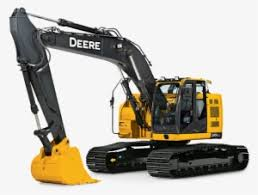excavator: (7, 8, 249, 184)
